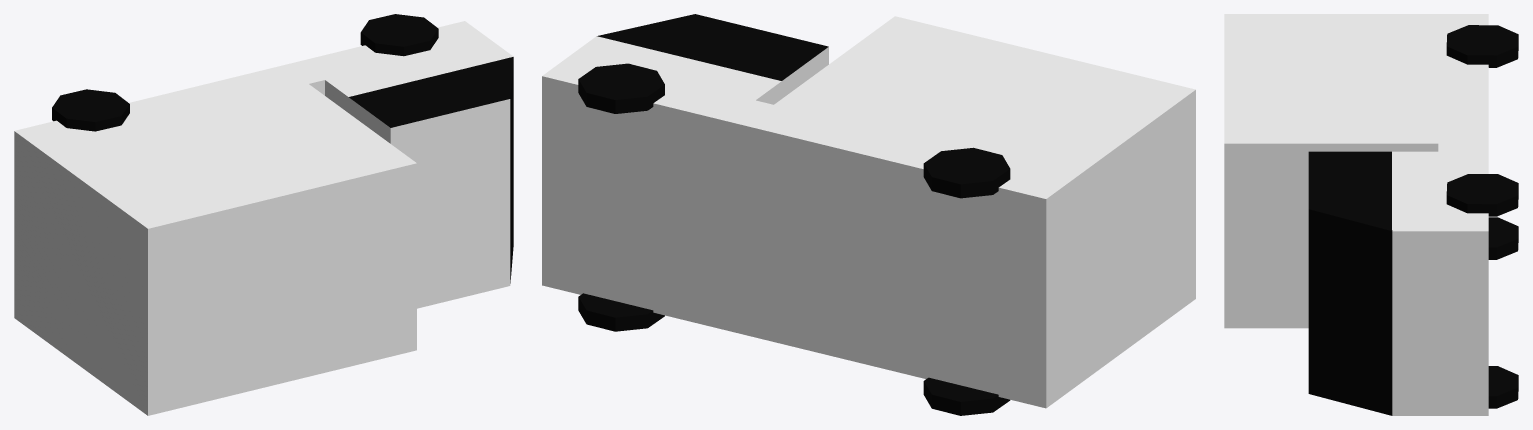
Rendered from truck.glb.
3 renders of one model, left to right at view 1: azimuth 30°, elevation 25°; view 2: azimuth 150°, elevation 25°; view 3: azimuth 270°, elevation 25°, orthographic. The views are drawn at different scales.
Parts seen in each view (by area): view 1: truck; view 2: truck; view 3: truck.
Part boxes in pixels (<box>): truck: <box>14,14,513,415</box>; truck: <box>542,14,1195,415</box>; truck: <box>1224,14,1518,415</box>.
Size of the model in its own units: 5.12 by 2.25 by 2.93.
Materials: 1 (1 with a texture image).
